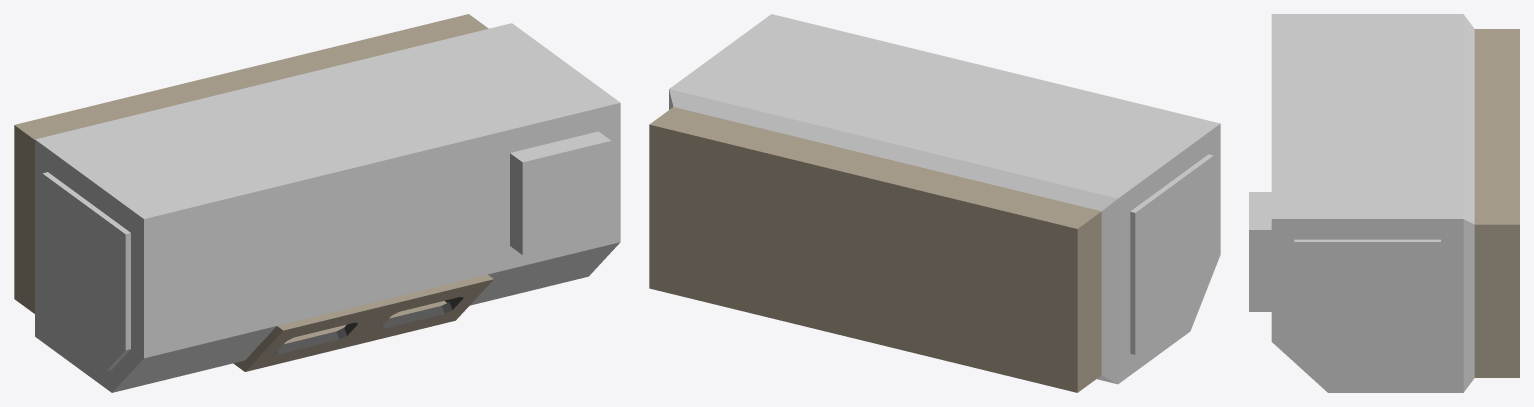
File: cnc_lathe_machine_3_state_2.dae
3 renders of one model, left to right at view 1: azimuth 30°, elevation 25°; view 2: azimuth 150°, elevation 25°; view 3: azimuth 270°, elevation 25°, orthographic. The views are drawn at different scales.
Parts seen in each view (by area): view 1: coords_ME_ID19_MA_material_8, coords_ME_ID11_MA_material_13, coords_ME_ID65_MA_material_8, coords_ME_ID27_MA_material_8, coords_ME_ID39_MA_material, coords_ME_ID3_MA_material; view 2: coords_ME_ID11_MA_material_13, coords_ME_ID19_MA_material_8, coords_ME_ID65_MA_material_8; view 3: coords_ME_ID19_MA_material_8, coords_ME_ID71_MA_material_8, coords_ME_ID11_MA_material_13, coords_ME_ID27_MA_material_8.
Boxes of the visible parts, x1,y1,x2,y2 form: coords_ME_ID19_MA_material_8: (35, 23, 620, 392); coords_ME_ID11_MA_material_13: (14, 14, 493, 371); coords_ME_ID65_MA_material_8: (42, 172, 130, 370); coords_ME_ID27_MA_material_8: (510, 131, 611, 254); coords_ME_ID39_MA_material: (381, 297, 463, 328); coords_ME_ID3_MA_material: (275, 322, 357, 354); coords_ME_ID11_MA_material_13: (649, 107, 1101, 392); coords_ME_ID19_MA_material_8: (669, 14, 1220, 384); coords_ME_ID65_MA_material_8: (1130, 154, 1213, 354); coords_ME_ID19_MA_material_8: (1271, 14, 1474, 392); coords_ME_ID71_MA_material_8: (1294, 239, 1440, 374); coords_ME_ID11_MA_material_13: (1474, 29, 1519, 377); coords_ME_ID27_MA_material_8: (1249, 192, 1271, 311).
Size of the model in its own units: 41.57 by 17.48 by 22.68.
